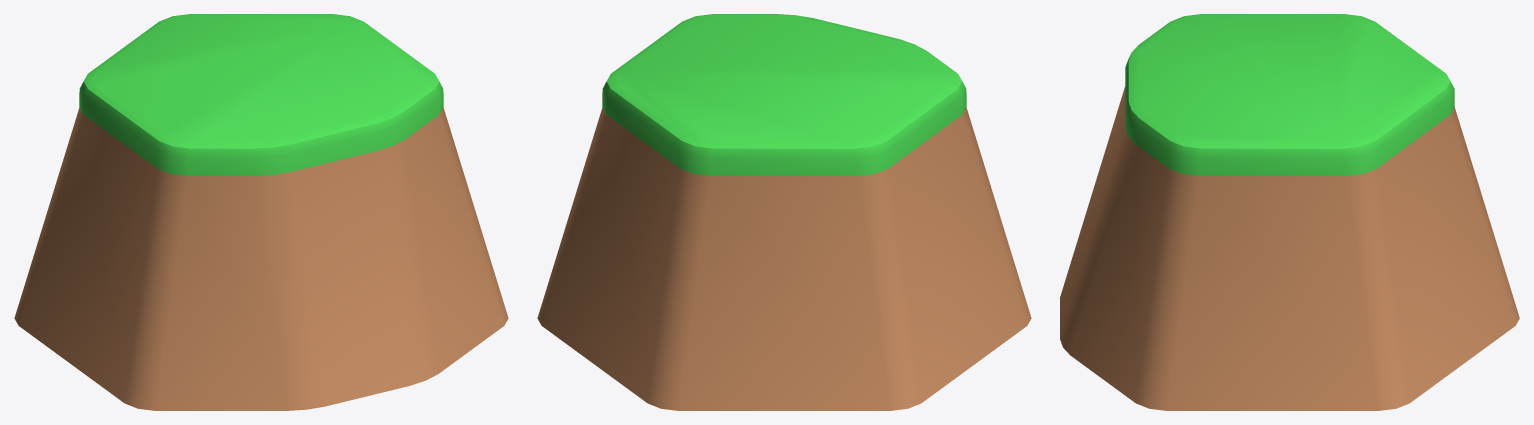
Rendered from HillRock001.fbx.
3 renders of one model, left to right at view 1: azimuth 30°, elevation 25°; view 2: azimuth 150°, elevation 25°; view 3: azimuth 270°, elevation 25°, orthographic.
Visible parts, largest first — view 1: HillRock001; view 2: HillRock001; view 3: HillRock001.
Boxes of the visible parts, box(x1,y1,x2,y2) form: HillRock001: box(14, 14, 508, 410); HillRock001: box(537, 14, 1031, 410); HillRock001: box(1060, 14, 1519, 410).
Bounding box in the file's own units: 747 × 451 × 783.
